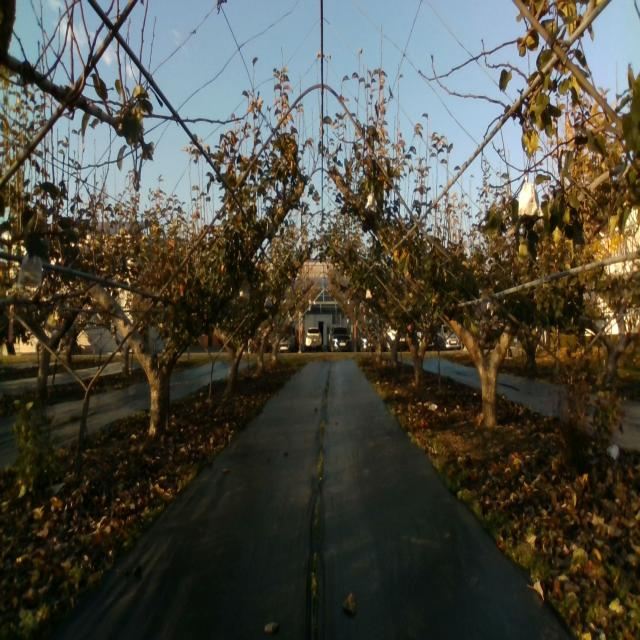pearbags: (518, 175, 544, 217), (17, 253, 43, 288), (366, 193, 376, 212)
